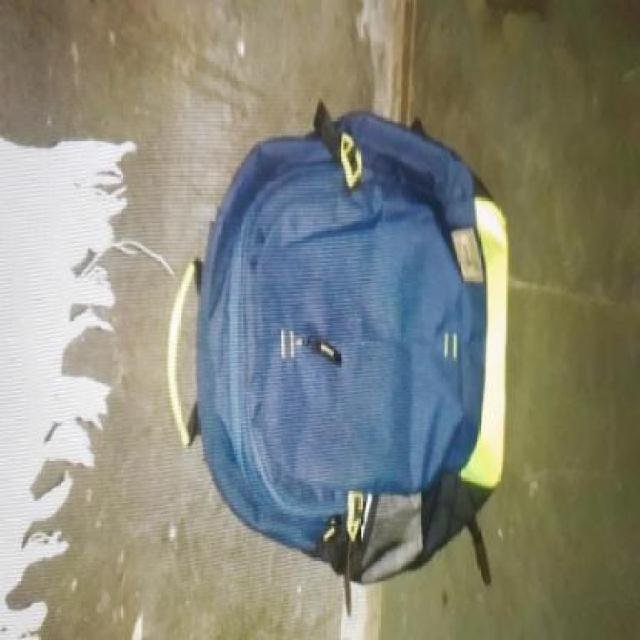backpack: (163, 97, 514, 618)
